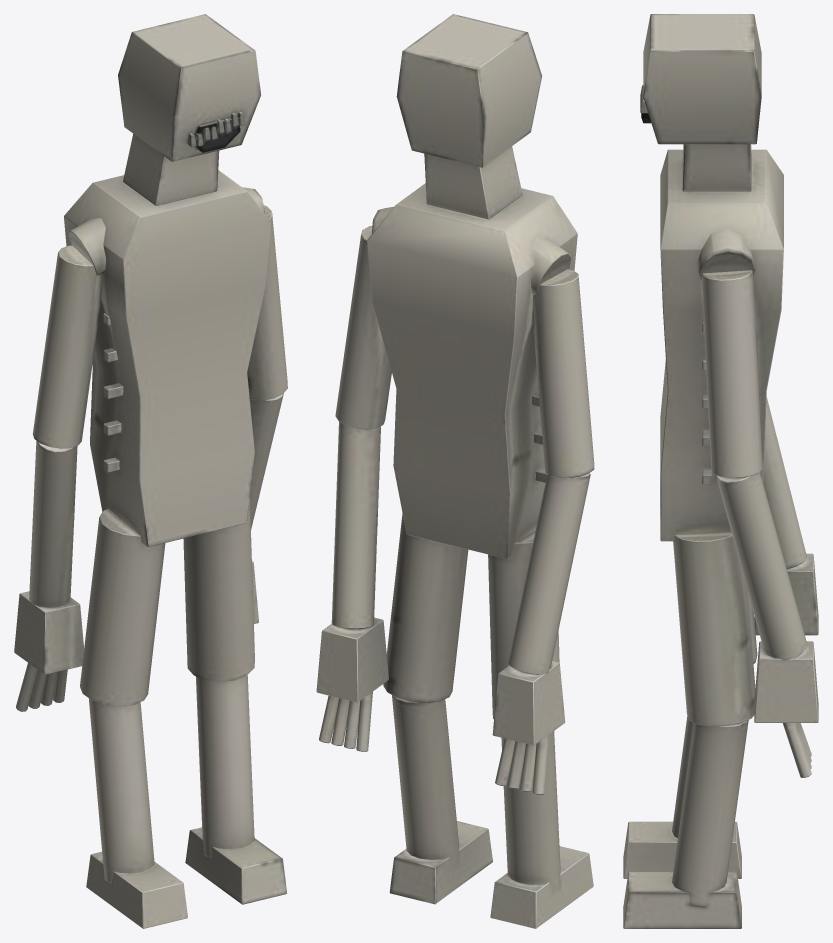
File: MN_whisperer.glb
3 views of the same model, side by side, from view 1: azimuth 30°, elevation 25°; view 2: azimuth 150°, elevation 25°; view 3: azimuth 270°, elevation 25° (orthographic). The views are drawn at different scales.
Parts seen in each view (by area): view 1: MN_whisperer; view 2: MN_whisperer; view 3: MN_whisperer.
Part boxes in pixels (x1,y1,x2,y2): MN_whisperer: (14, 14, 287, 928); MN_whisperer: (316, 14, 594, 928); MN_whisperer: (623, 14, 818, 928).
Bounding box in the file's own units: 0.6016 × 1.94 × 0.3947.
Materials: 1 (1 with a texture image).
